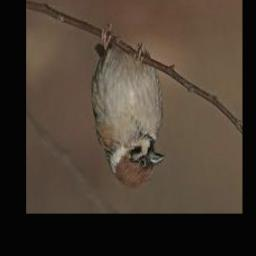Sparrow: (92, 25, 166, 189)
